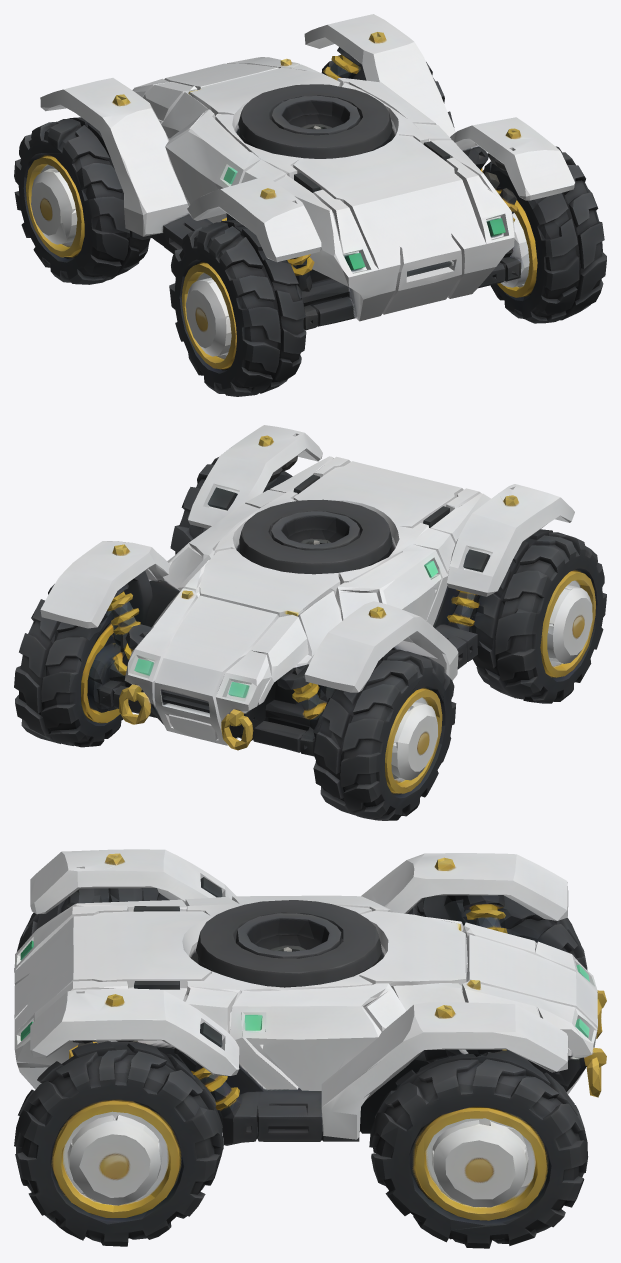
The model's file is scout_wheels.glb.
3 views of the same model, one above another, from view 1: azimuth 30°, elevation 25°; view 2: azimuth 150°, elevation 25°; view 3: azimuth 270°, elevation 25° (orthographic). The views are drawn at different scales.
Parts seen in each view (by area): view 1: Hull, CompleteWheel4, CompleteWheel5, CompleteWheel1, Fender; view 2: Hull, CompleteWheel5, CompleteWheel4, CompleteWheel0, Fender, CompleteWheel1; view 3: Hull, CompleteWheel0, CompleteWheel1, Fender, CompleteWheel5, CompleteWheel4.
Part boxes in pixels (x1,y1,x2,y2): Hull: [40, 14, 521, 330]; CompleteWheel4: [169, 220, 306, 396]; CompleteWheel5: [14, 117, 151, 284]; CompleteWheel1: [482, 146, 606, 323]; Fender: [450, 117, 574, 200]; Hull: [40, 456, 574, 756]; CompleteWheel5: [313, 649, 456, 820]; CompleteWheel4: [471, 529, 606, 703]; CompleteWheel0: [14, 584, 123, 747]; Fender: [187, 425, 322, 528]; CompleteWheel1: [170, 457, 292, 554]; Hull: [14, 849, 606, 1145]; CompleteWheel0: [369, 1050, 588, 1248]; CompleteWheel1: [14, 1041, 223, 1246]; Fender: [30, 989, 239, 1075]; CompleteWheel5: [407, 895, 587, 970]; CompleteWheel4: [14, 888, 169, 972].
Size of the model in its own units: 1.56 by 0.7589 by 1.8.
Materials: 6 (6 with a texture image).
